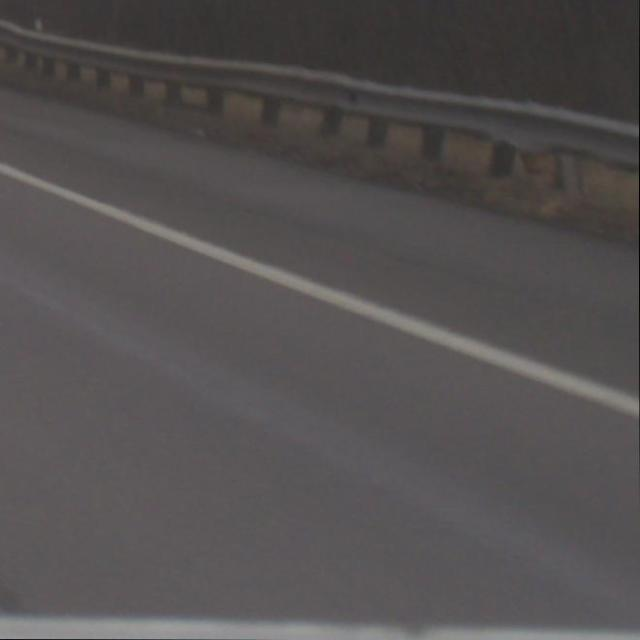Guard rail: (0, 19, 640, 209)
